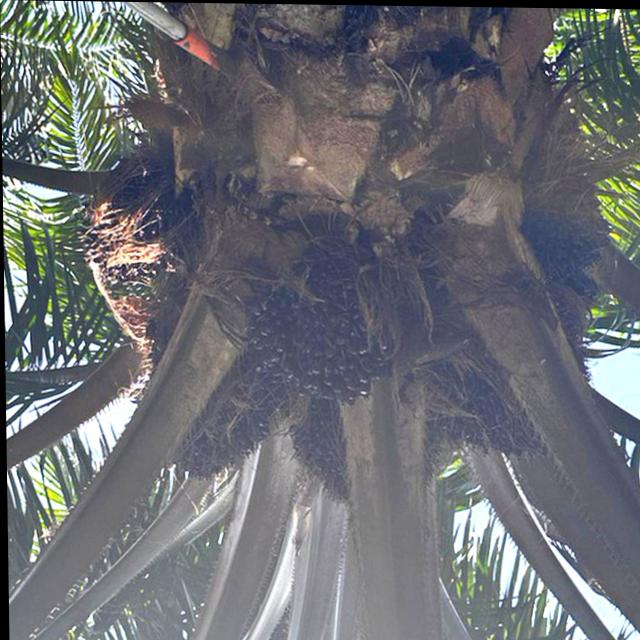unripe: (238, 243, 398, 409)
